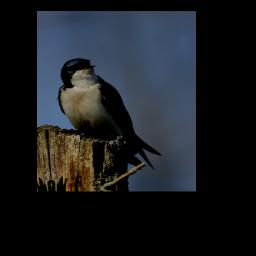Swallow: (55, 54, 163, 176)
